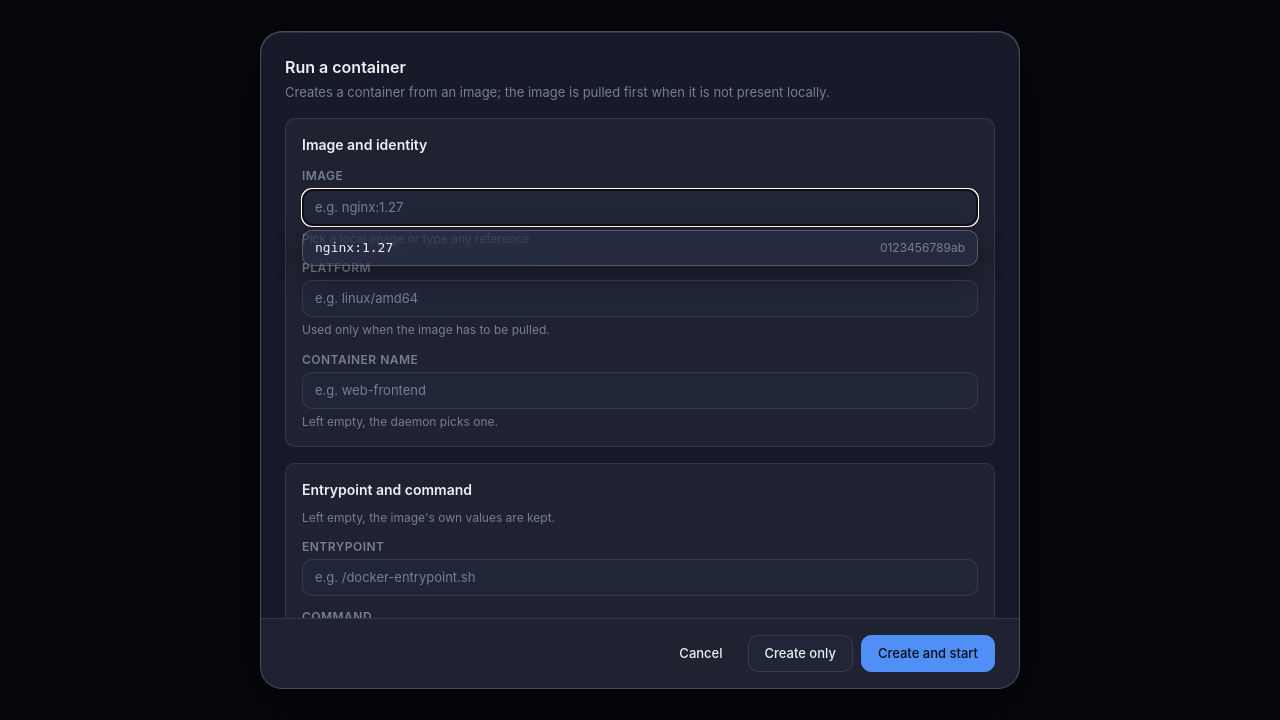
it: ContainerCreateForm — image choice and pull (plan-docker_management_app/REQ-29) › shows the per-layer pull progress while the image is being pulled
The width and height of the screenshot is (1280, 720).
Type "ghcr.io/acme/api:2.1" into the dropdown named "Image reference" at x=640, y=207, box [302, 189, 978, 226]
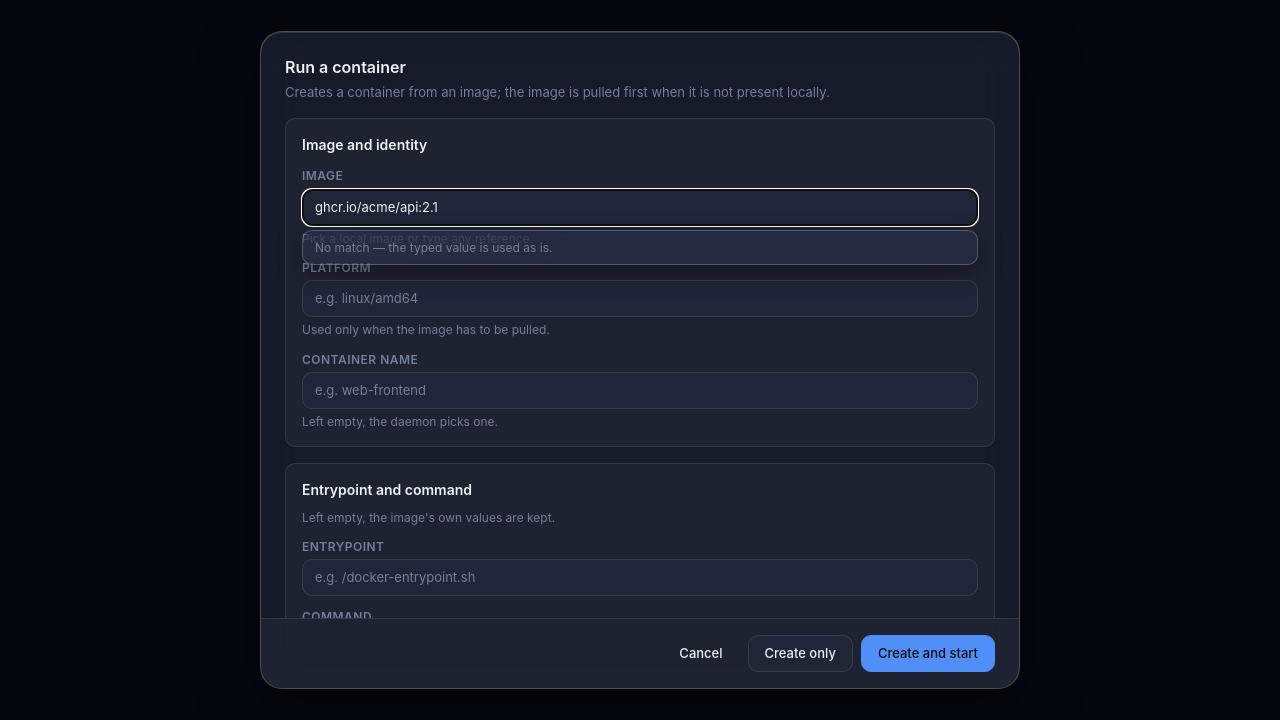
Click the button "Create and start" at x=928, y=654, box [861, 635, 995, 672]
(page scrolled)
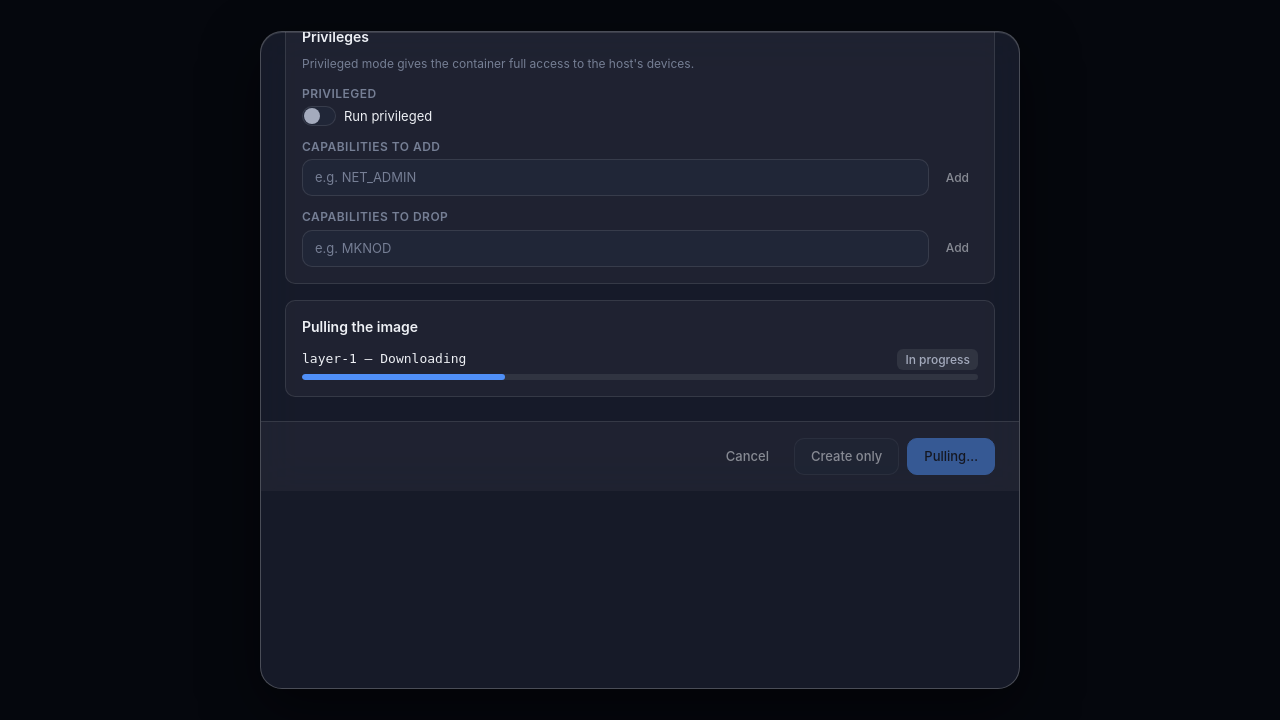
Check: the heading "Pulling the image" is shown, box [302, 318, 418, 334]
Check: the text "layer-1 — Downloading" is shown, box [302, 350, 466, 369]
